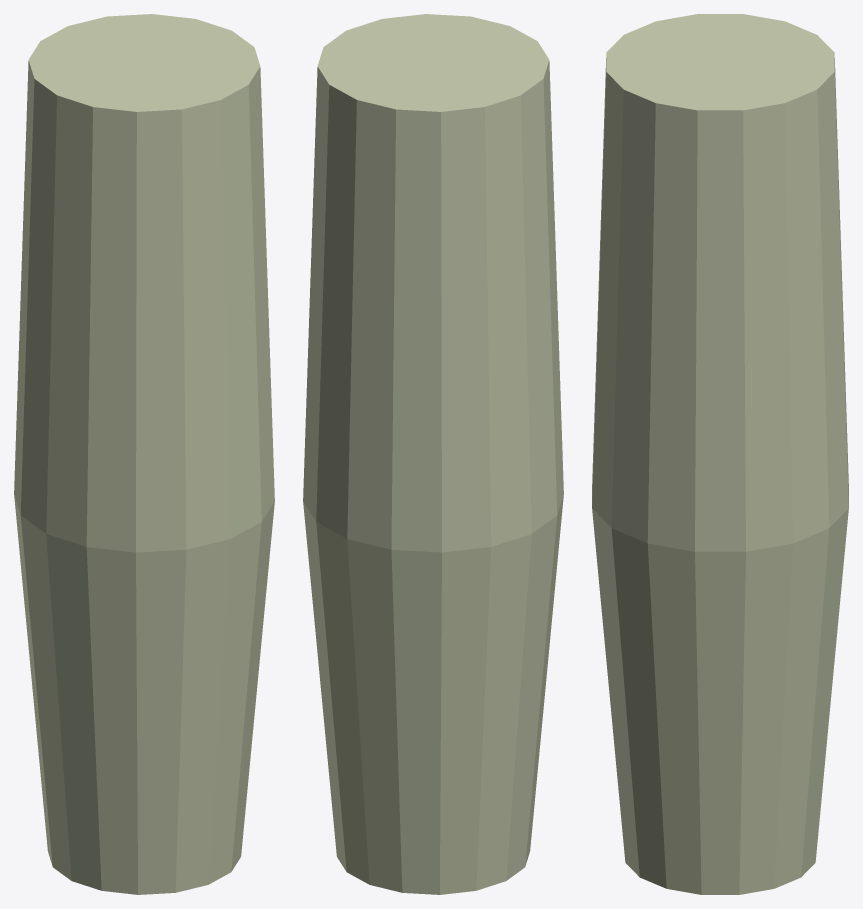
The model's file is TLV_1_LFO_2_E_Collider.obj.
3 views of the same model, side by side, from view 1: azimuth 30°, elevation 25°; view 2: azimuth 150°, elevation 25°; view 3: azimuth 270°, elevation 25° (orthographic).
Parts seen in each view (by area): view 1: TLV_1_LFO_2_E_Collider; view 2: TLV_1_LFO_2_E_Collider; view 3: TLV_1_LFO_2_E_Collider.
Part boxes in pixels (bbox=[...]): TLV_1_LFO_2_E_Collider: bbox=[14, 14, 274, 894]; TLV_1_LFO_2_E_Collider: bbox=[303, 14, 563, 894]; TLV_1_LFO_2_E_Collider: bbox=[592, 14, 848, 894].
Size of the model in its own units: 1.69 by 5.74 by 1.69.
